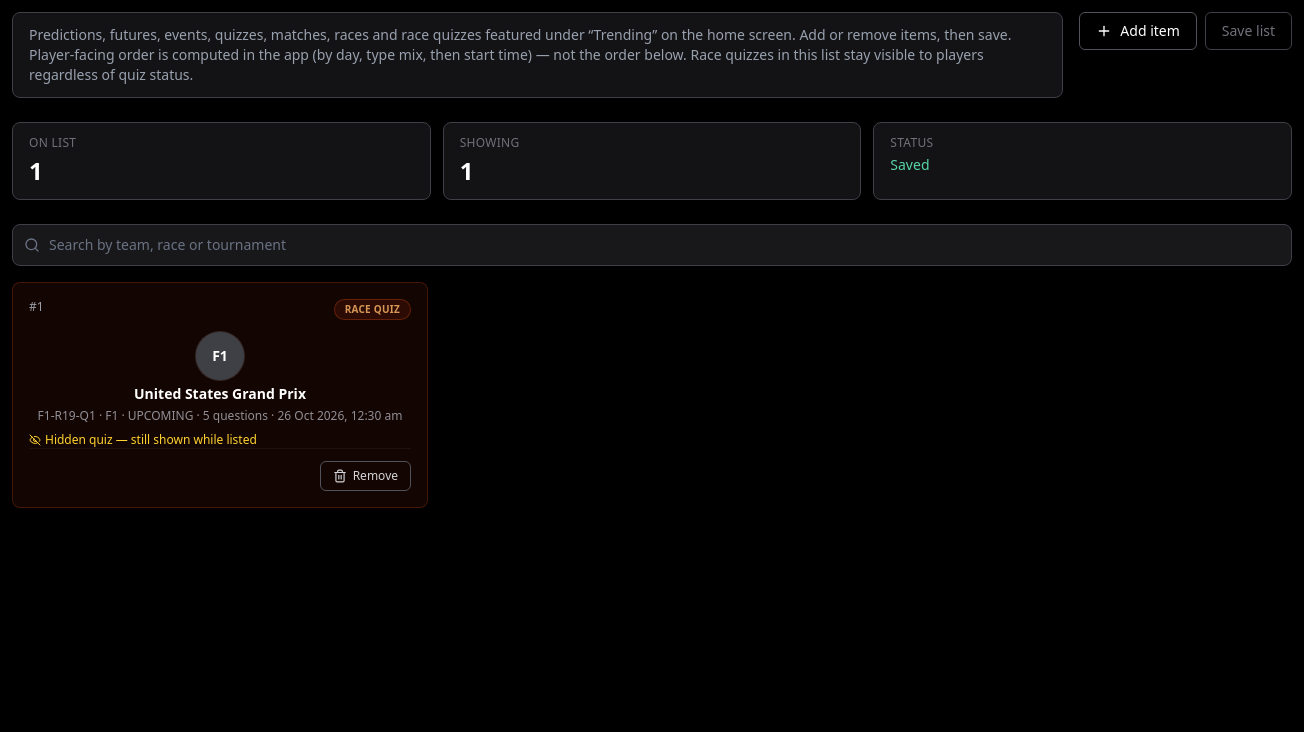
Scenario: trending motorsport quizzes › finds race quizzes in the list by race name or quiz id
Type "f1-r19-q1" into the field named "Search trending items by team, race or tournament".
click(652, 245); type("f1-r19-q1")  # box [12,224,1292,266]
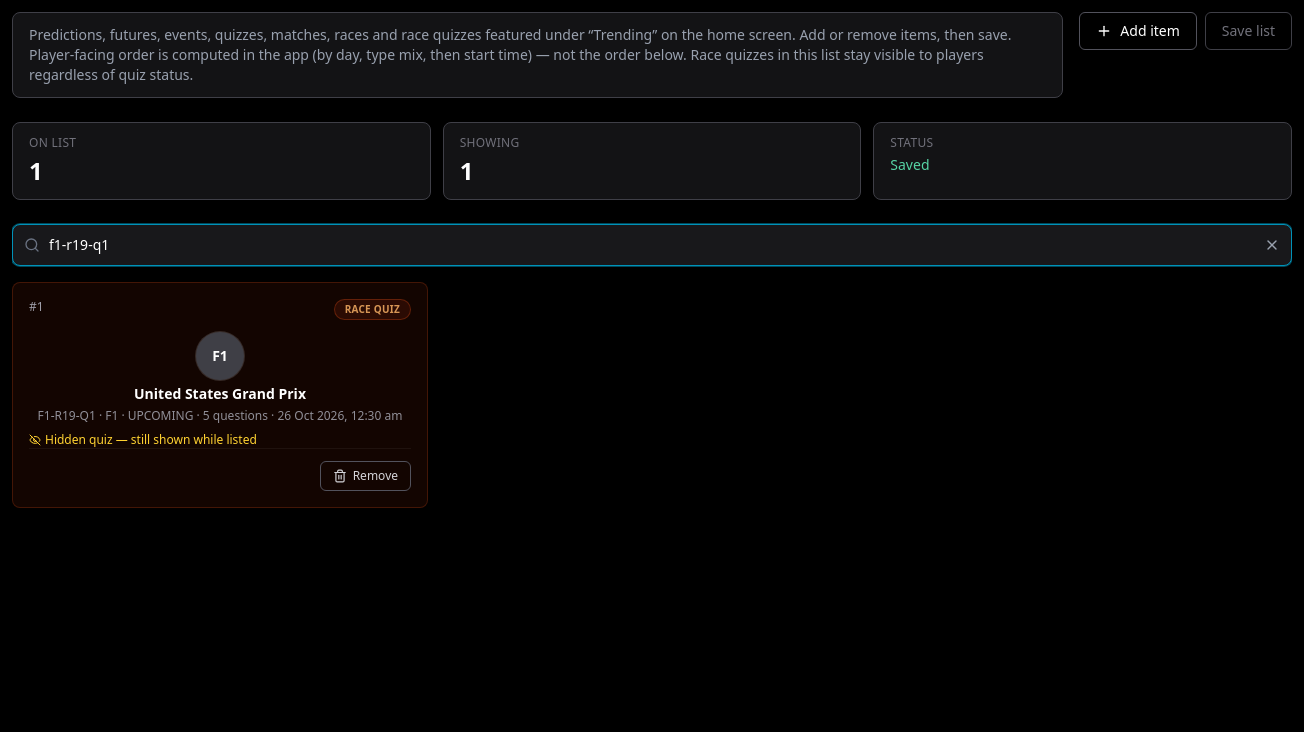
Expected: the heading "United States Grand Prix" is shown, [134,384,306,403]
Replace the text in the field named "Search trending items by team, race or tournament" with "monaco" at (652, 245), box [12,224,1292,266]
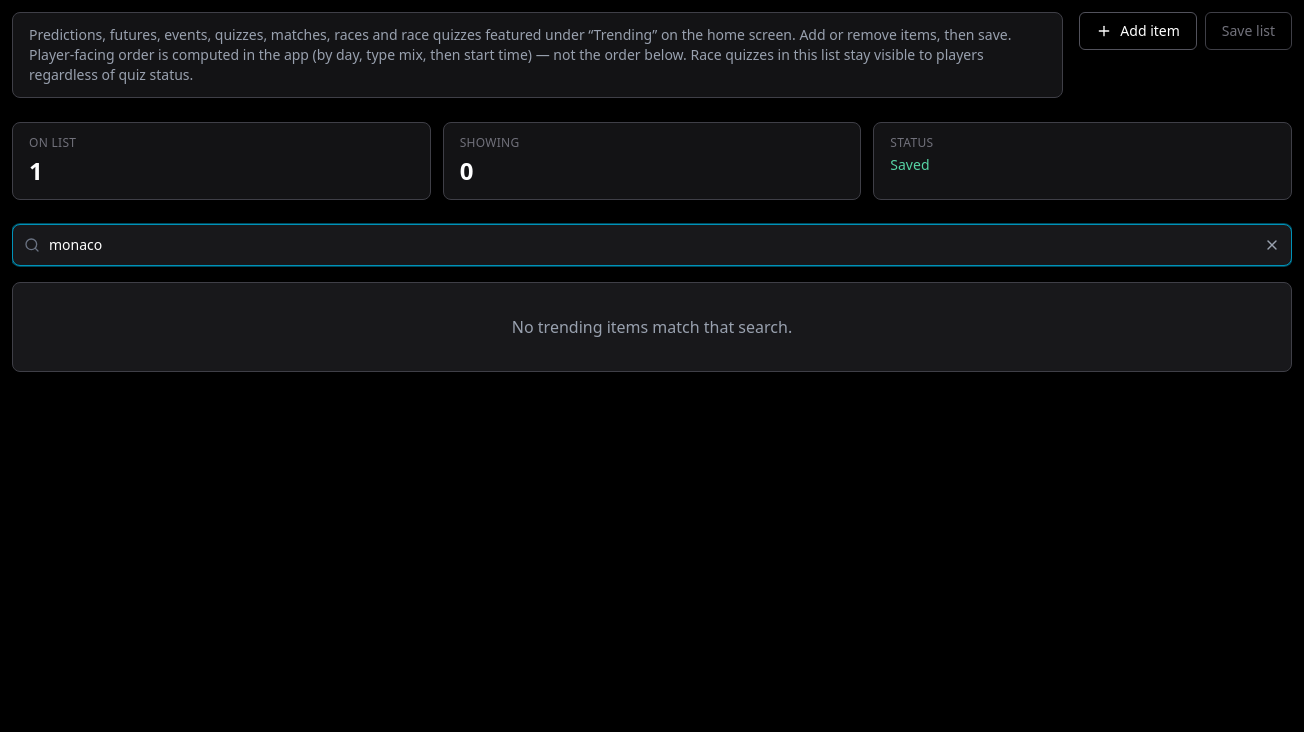
Result: the text "No trending items match that search." is shown at [12,282,1292,372]
